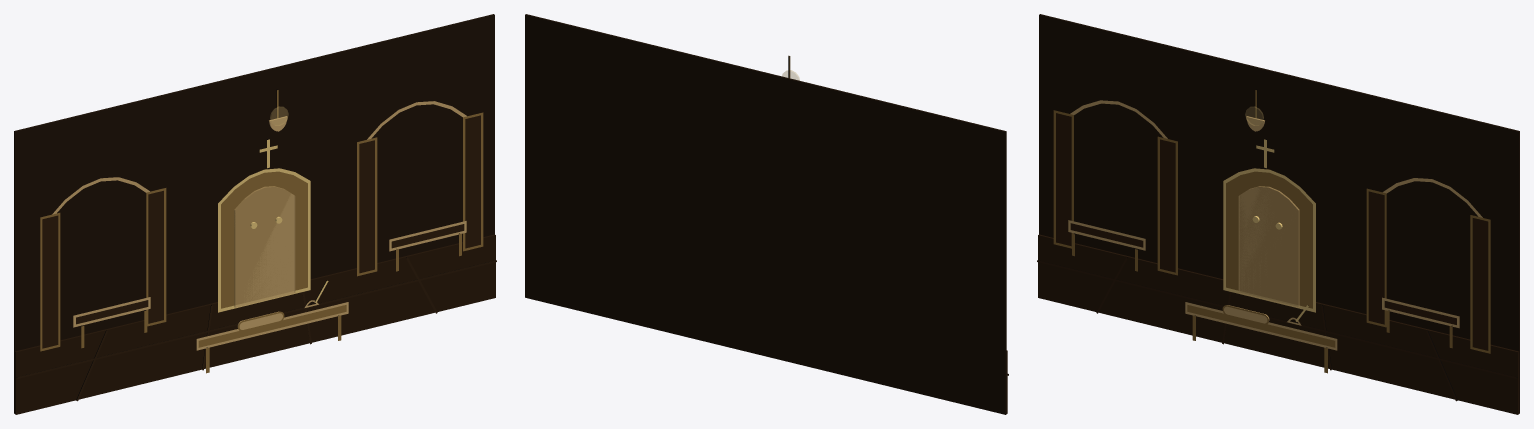
The model's file is loc-pritvor-sud.glb.
3 views of the same model, side by side, from view 1: azimuth 30°, elevation 25°; view 2: azimuth 150°, elevation 25°; view 3: azimuth 330°, elevation 25° (orthographic).
Parts seen in each view (by area): view 1: loc-pritvor-sud; view 2: loc-pritvor-sud; view 3: loc-pritvor-sud.
Part boxes in pixels (box(x1,y1,x2,y2)): loc-pritvor-sud: box(14, 14, 496, 414); loc-pritvor-sud: box(525, 14, 1008, 414); loc-pritvor-sud: box(1037, 14, 1519, 414).
Size of the model in its own units: 5.33 by 3 by 0.5.
